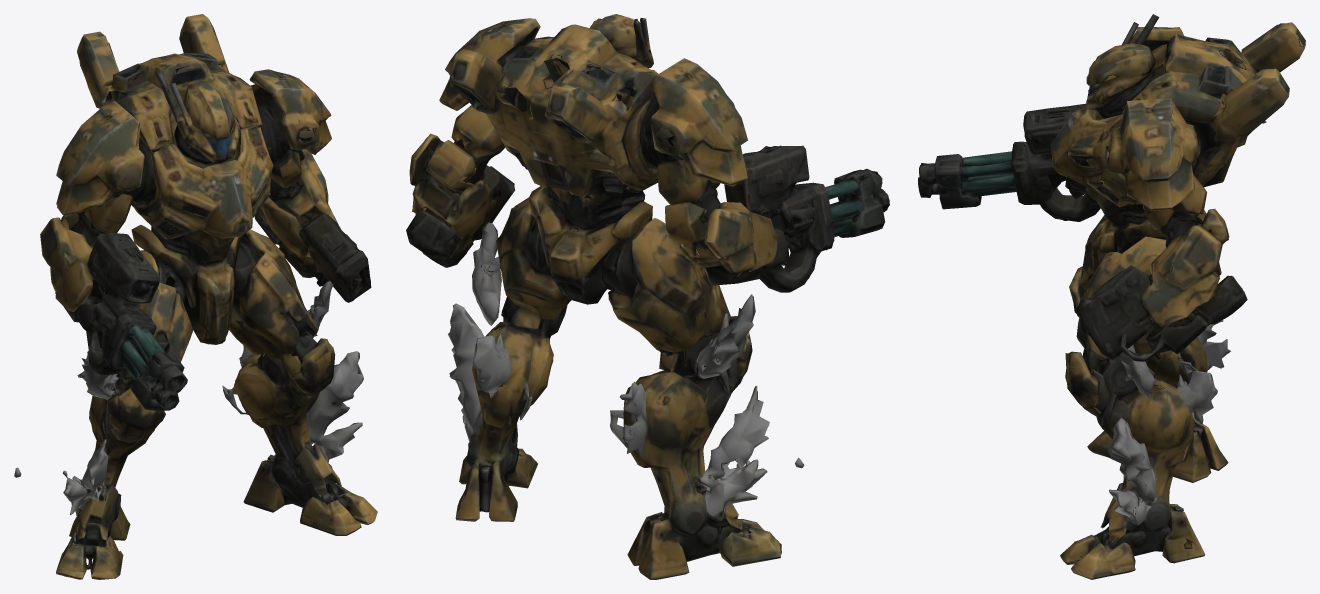
File: 14_Heavy Stealth Suit.glb
3 views of the same model, side by side, from view 1: azimuth 30°, elevation 25°; view 2: azimuth 150°, elevation 25°; view 3: azimuth 270°, elevation 25° (orthographic). The views are drawn at different scales.
Bounding box in the file's own units: 0.7596 × 0.9883 × 0.731.
1 material, 1 textured.
